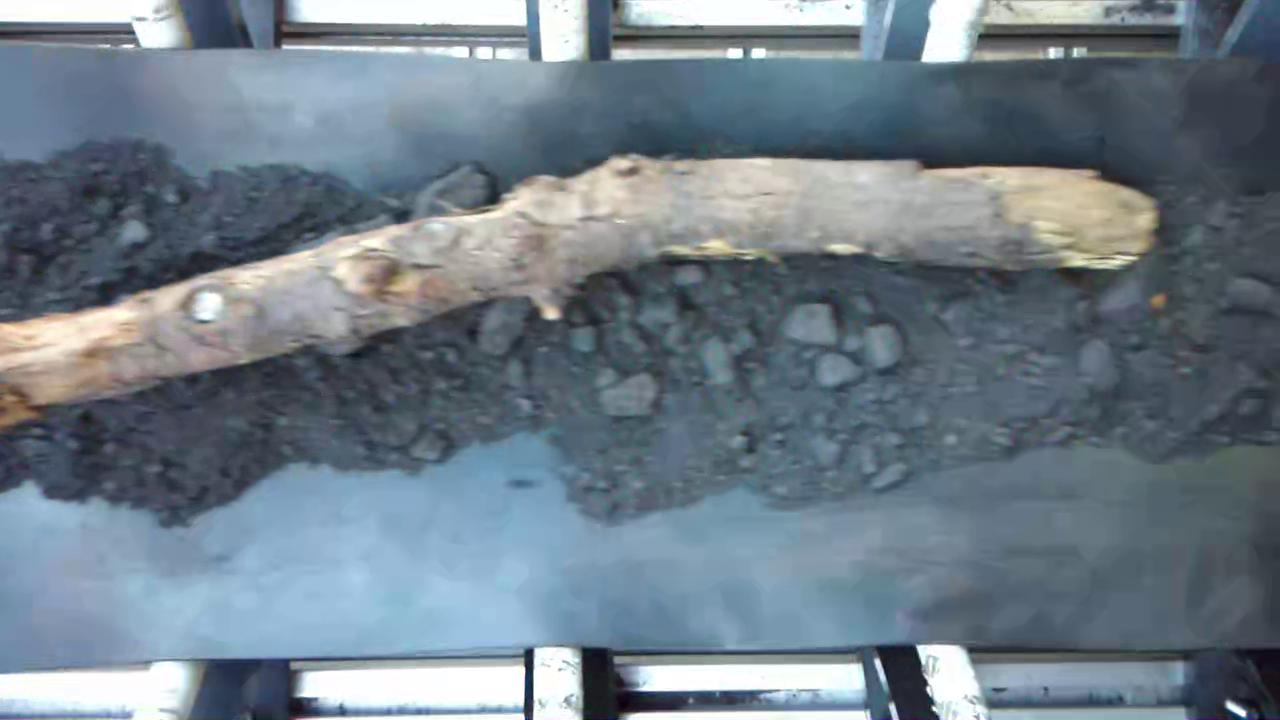conveyor: (0, 67, 1280, 640)
